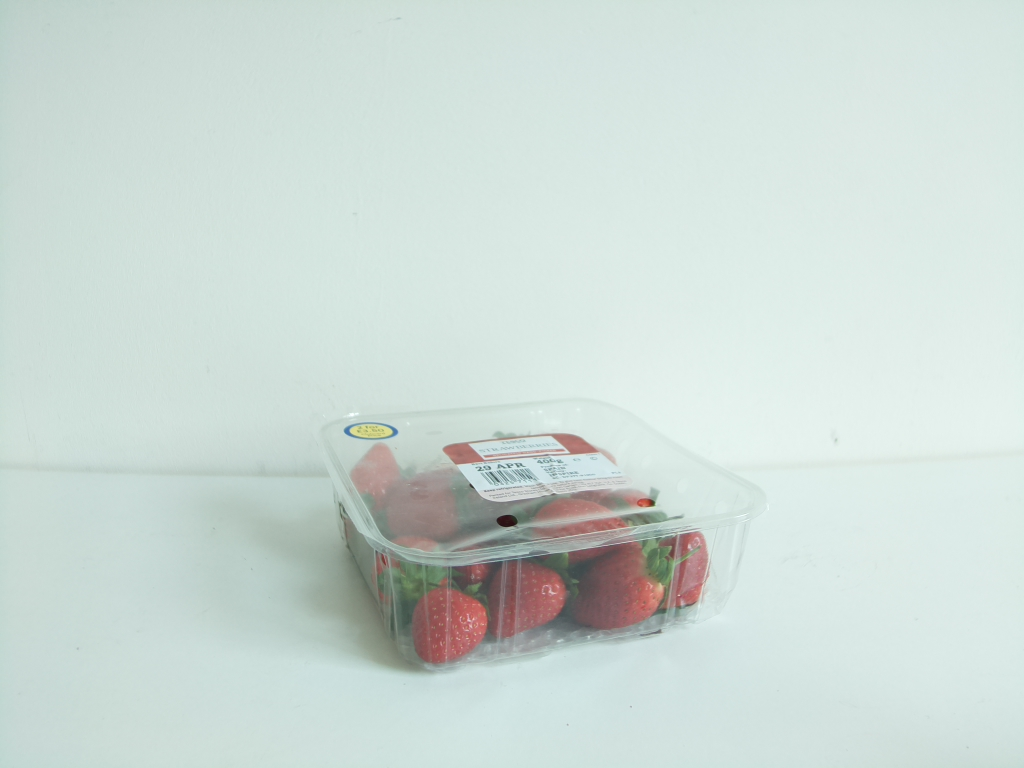soft-fruit: (310, 398, 766, 677)
